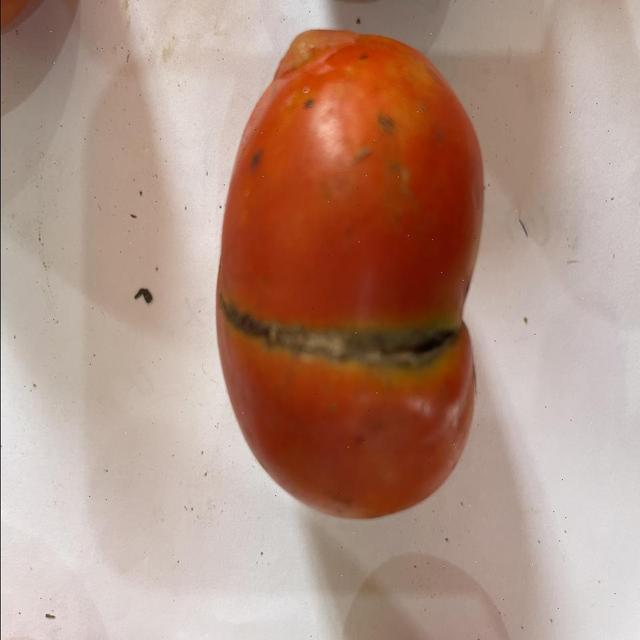Cracking Fruit: (148, 198, 320, 251)
